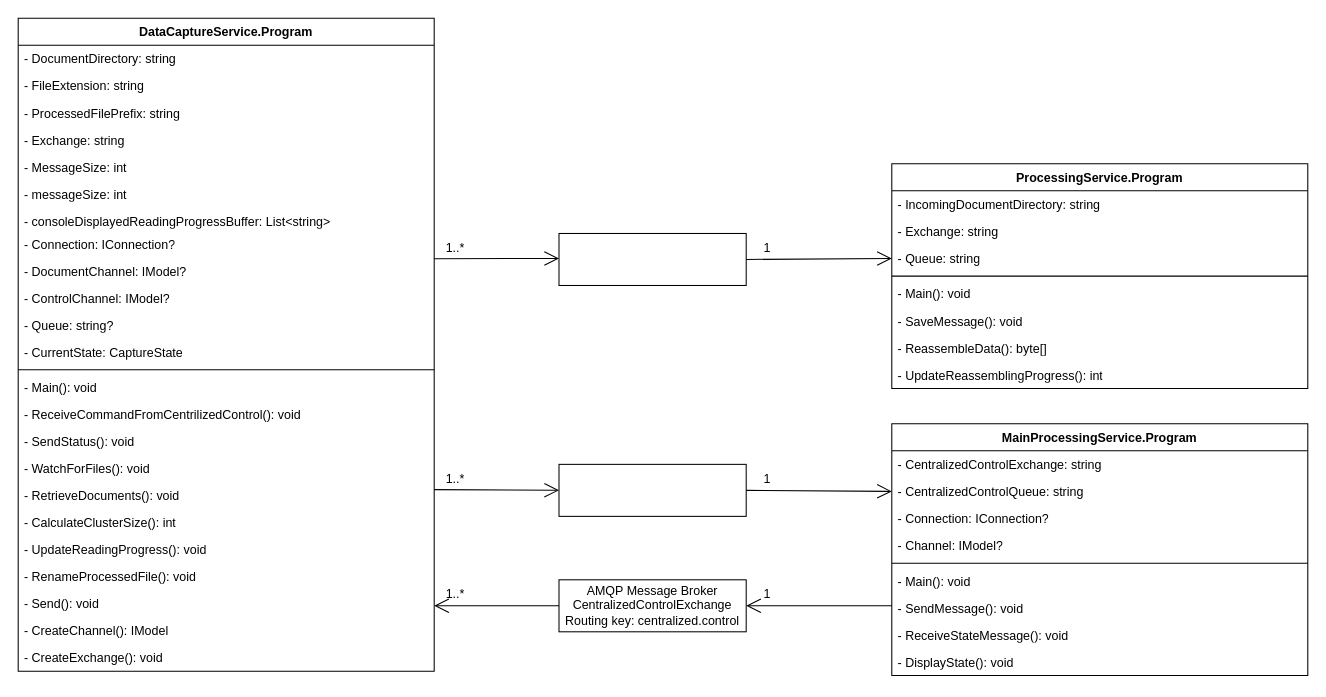
This 1326x697 diagram has some shape labels left out. The centre of each missing label's shape, as x and y in pixels:
"AMQP Message Broker CentralizedControlExchange Routing key: status.update" belongs at (652,489).
"AMQP Message Broker DocumentCaptureExchange Routing key: document.captured" belongs at (652,258).
